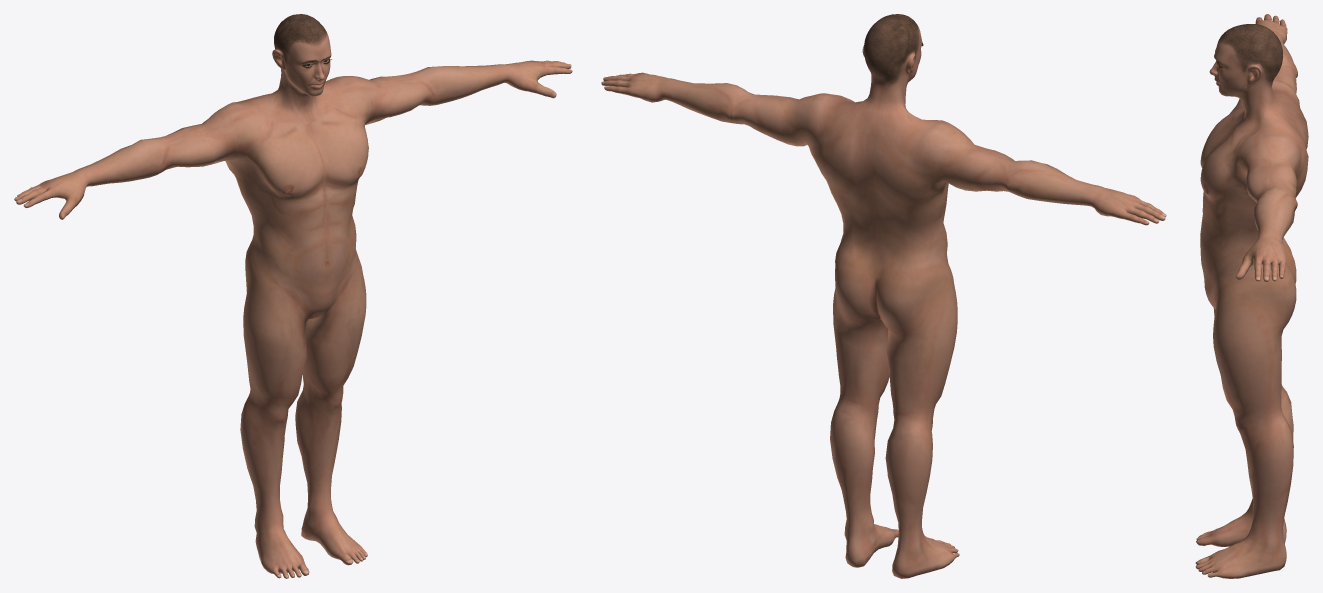
File: face_worried.obj
3 renders of one model, left to right at view 1: azimuth 30°, elevation 25°; view 2: azimuth 150°, elevation 25°; view 3: azimuth 270°, elevation 25°, orthographic. The views are drawn at different scales.
Visible parts, largest first — view 1: BodyParts; view 2: BodyParts; view 3: BodyParts.
Part boxes in pixels (x1,y1,x2,y2): BodyParts: [14, 14, 572, 578]; BodyParts: [601, 14, 1166, 578]; BodyParts: [1195, 14, 1308, 578].
Size of the model in its own units: 194 by 179 by 34.57.
